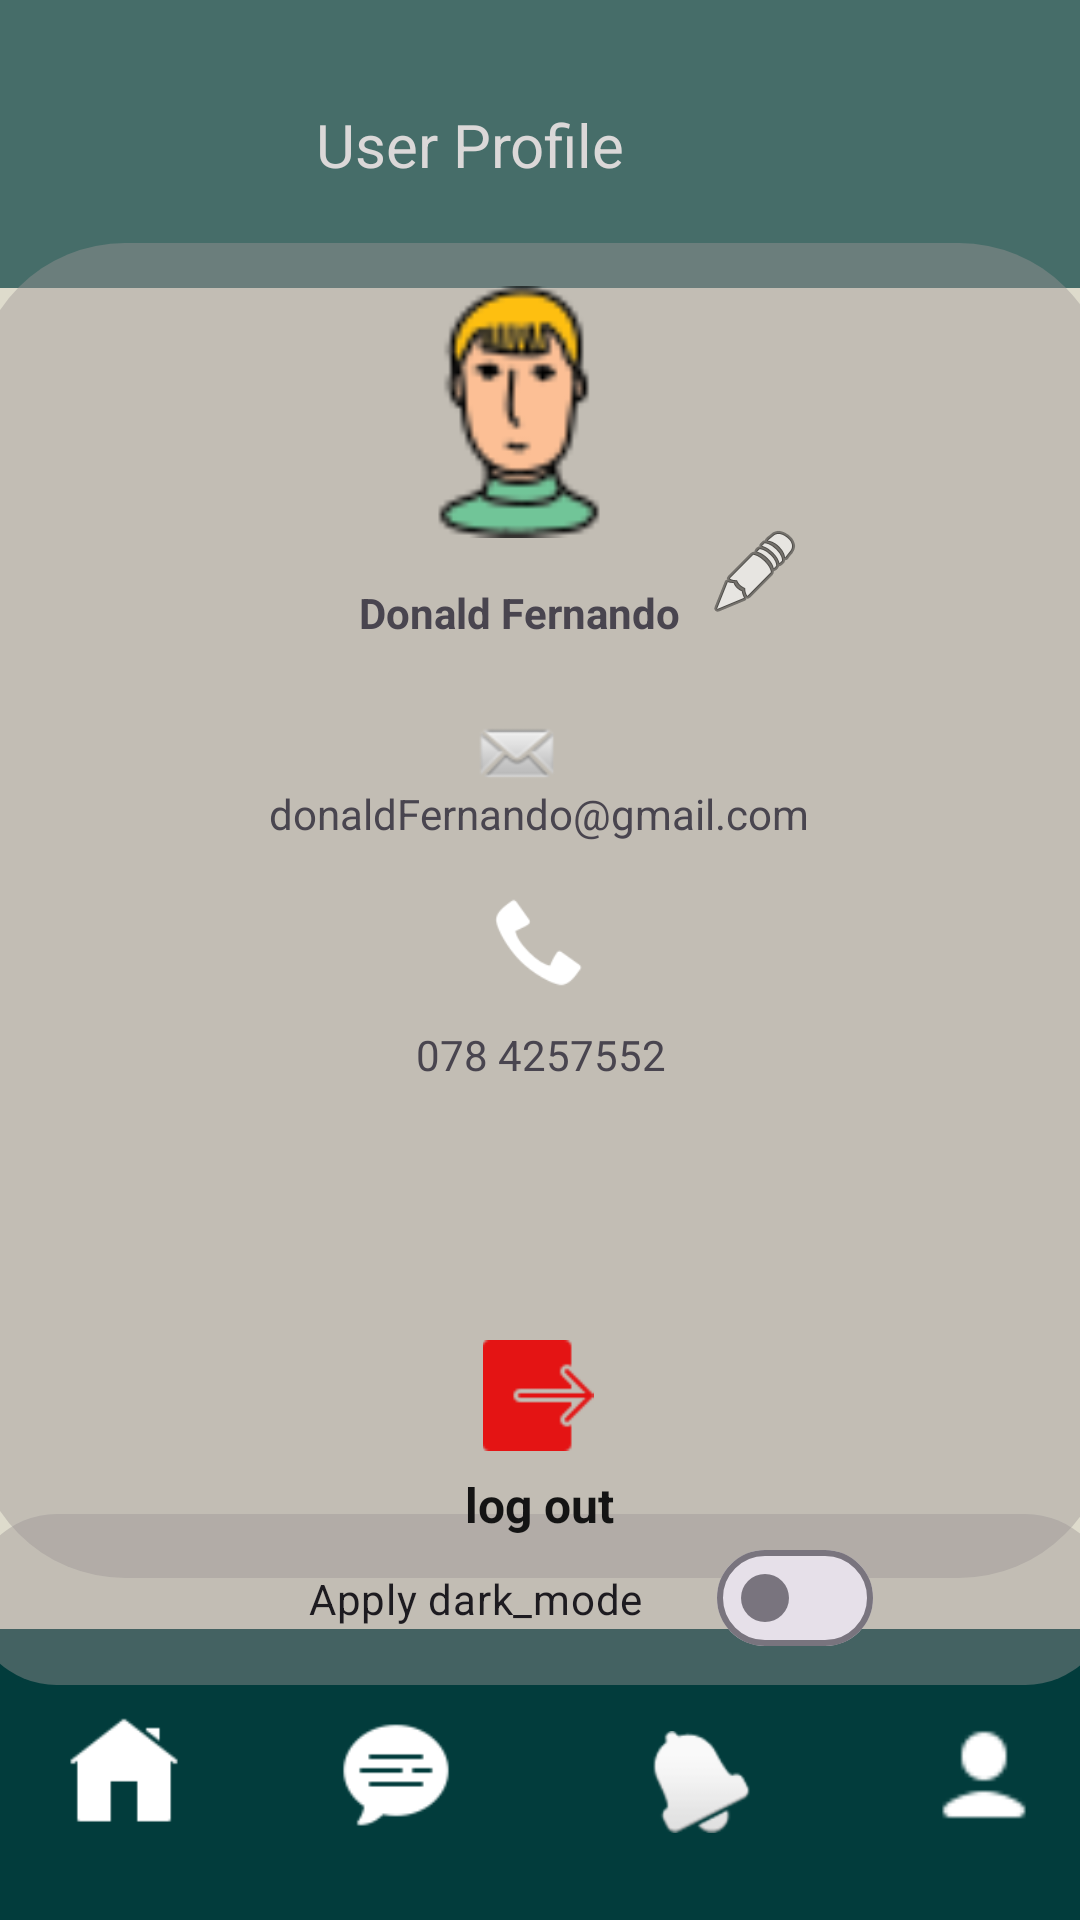

Icons on this 1080 × 1920 Android screen, each with the point to tap as (x=x, y=y):
edit: (x=754, y=571)
home: (x=124, y=1770)
message: (x=396, y=1775)
phone call: (x=538, y=942)
popup reminder: (x=701, y=1782)
sym action email: (x=517, y=753)
